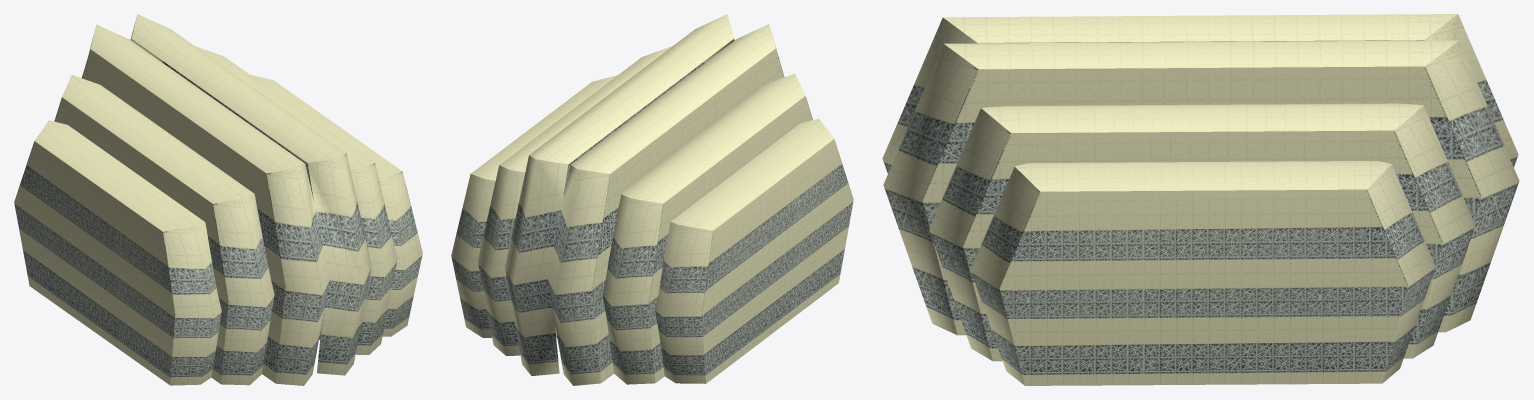
File: Beehive.FBX
3 renders of one model, left to right at view 1: azimuth 30°, elevation 25°; view 2: azimuth 150°, elevation 25°; view 3: azimuth 270°, elevation 25°, orthographic. The views are drawn at different scales.
Parts seen in each view (by area): view 1: Box011; view 2: Box011; view 3: Box011.
Boxes of the visible parts, x1,y1,x2,y2 form: Box011: [14, 14, 422, 385]; Box011: [451, 14, 853, 385]; Box011: [882, 14, 1519, 385].
Bounding box in the file's own units: 61.35 × 49.59 × 102.
Materials: 1 (1 with a texture image).
